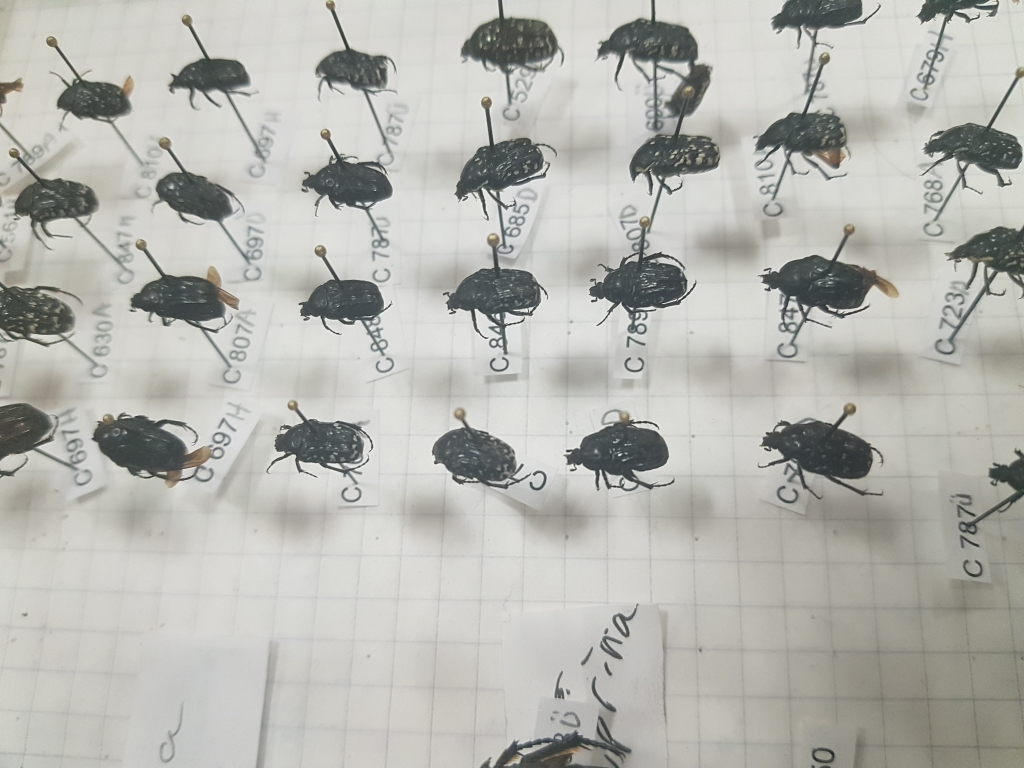Oxythyrea_albopicta: (581, 243, 694, 321), (448, 128, 563, 199), (436, 266, 555, 324)
